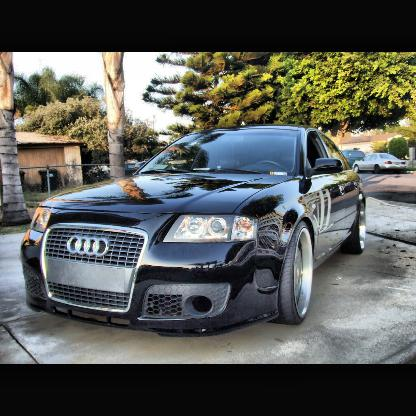Audi S6 Sedan 2011: (13, 108, 386, 357)
